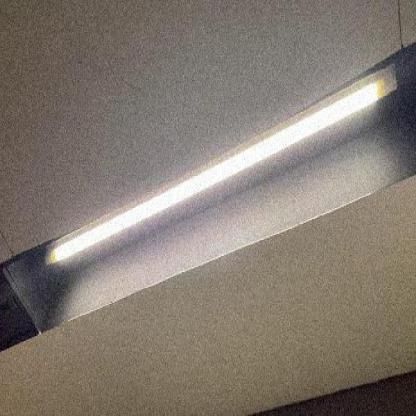light_on: (41, 50, 402, 292)
